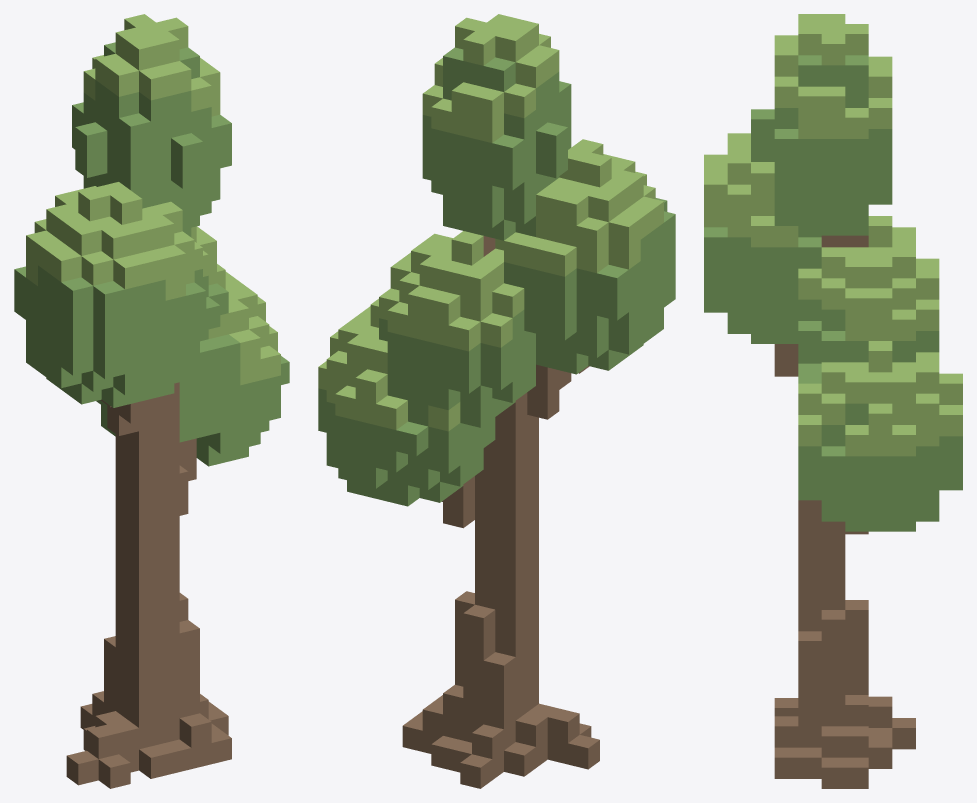
The model's file is tree_1_tall_oak.glb.
The picture shows the model from 3 angles, left to right: view 1: azimuth 30°, elevation 25°; view 2: azimuth 150°, elevation 25°; view 3: azimuth 270°, elevation 25°; orthographic projection.
Visible parts, largest first — view 1: tree_oak_var_1_tall_oak_D, tree_oak_var_1_tall_oak_W, tree_oak_var_1_tall_oak_L; view 2: tree_oak_var_1_tall_oak_D, tree_oak_var_1_tall_oak_L, tree_oak_var_1_tall_oak_W; view 3: tree_oak_var_1_tall_oak_D, tree_oak_var_1_tall_oak_L, tree_oak_var_1_tall_oak_W.
Part boxes in pixels (<box>): tree_oak_var_1_tall_oak_D: <box>14,42,289,466</box>; tree_oak_var_1_tall_oak_W: <box>66,382,231,788</box>; tree_oak_var_1_tall_oak_L: <box>26,14,280,385</box>; tree_oak_var_1_tall_oak_D: <box>318,47,675,506</box>; tree_oak_var_1_tall_oak_L: <box>318,14,663,431</box>; tree_oak_var_1_tall_oak_W: <box>402,236,599,788</box>; tree_oak_var_1_tall_oak_D: <box>704,55,962,531</box>; tree_oak_var_1_tall_oak_L: <box>704,14,962,456</box>; tree_oak_var_1_tall_oak_W: <box>774,235,915,788</box>.
Bounding box in the file's own units: 1.95 × 5.1 × 1.65.
